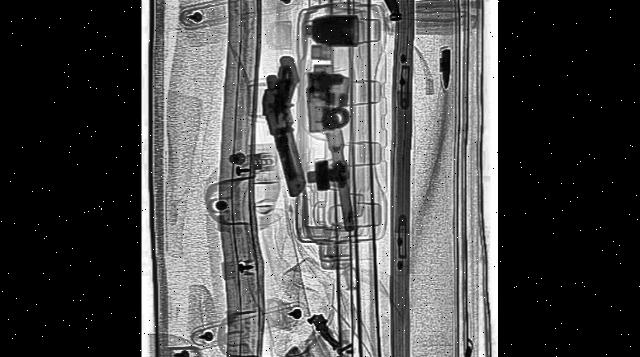Gun: (254, 47, 323, 208)
